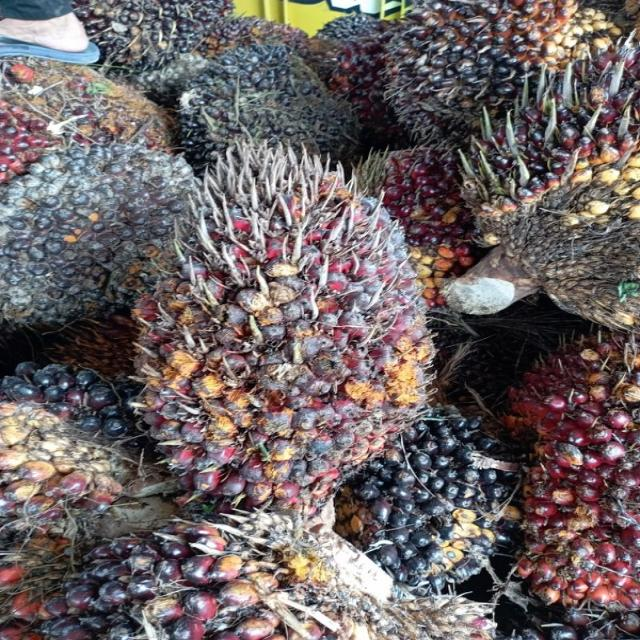fraksi 00: (5, 136, 175, 322), (344, 404, 523, 574), (180, 30, 355, 167), (380, 0, 574, 120)
fraksi 1: (128, 141, 424, 506)
